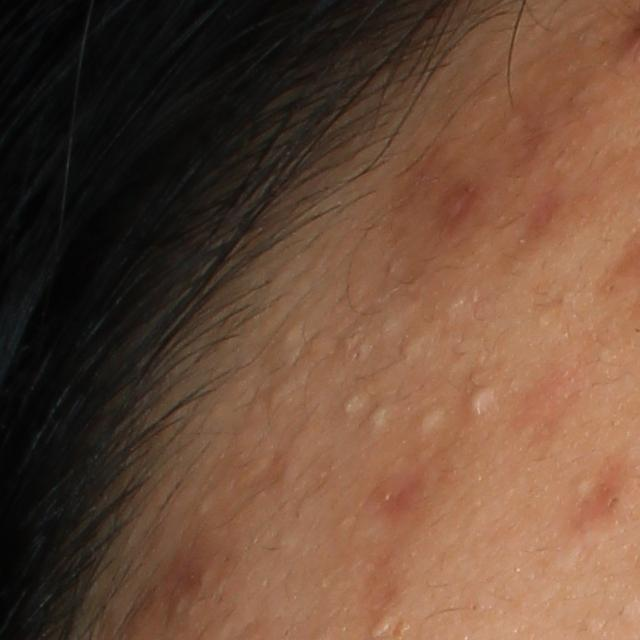comedo: (399, 330, 428, 364), (419, 408, 445, 433), (365, 404, 390, 429), (341, 394, 363, 414)
